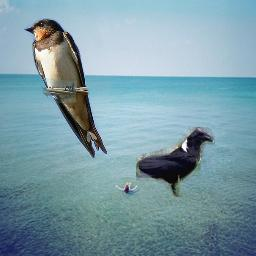Crow: (136, 127, 215, 197)
Swallow: (23, 18, 108, 158)
